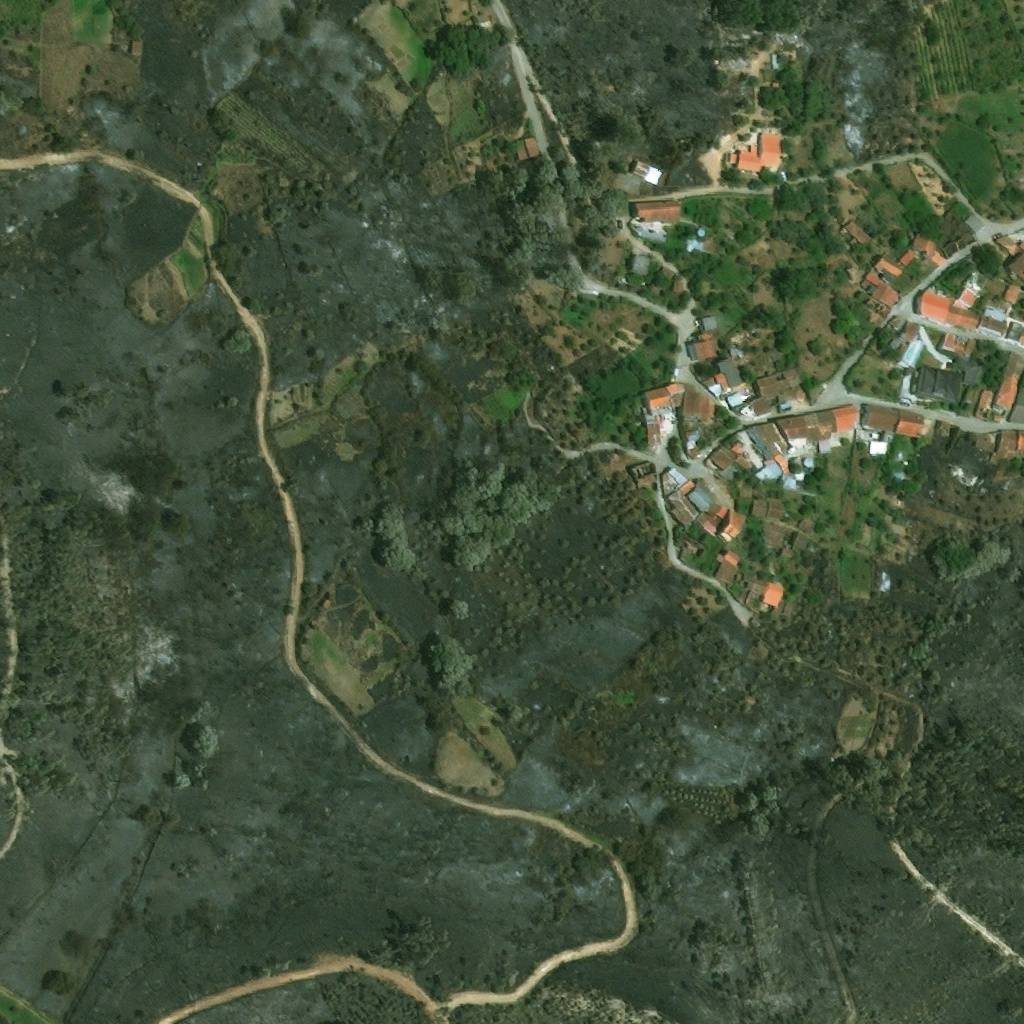0 no-damage: (739, 366, 804, 416), (645, 382, 718, 424), (778, 408, 839, 447), (907, 363, 963, 404), (728, 132, 783, 173), (701, 355, 745, 397), (747, 422, 792, 460), (665, 487, 703, 530), (686, 314, 719, 361), (861, 271, 900, 307), (861, 402, 902, 433), (856, 292, 892, 326), (900, 321, 925, 366), (953, 270, 981, 310), (914, 292, 949, 324), (633, 201, 683, 223), (939, 331, 978, 359), (913, 233, 947, 265), (945, 301, 981, 331), (977, 303, 1008, 337), (648, 409, 676, 445), (718, 508, 747, 542), (994, 374, 1020, 411), (895, 408, 926, 439), (706, 443, 738, 472), (838, 218, 872, 245), (717, 549, 743, 584), (631, 158, 664, 184), (631, 221, 668, 244), (663, 465, 688, 499), (687, 482, 716, 511), (874, 255, 905, 281), (696, 509, 724, 536), (751, 498, 785, 520), (955, 356, 980, 384), (835, 404, 860, 432), (759, 521, 787, 544), (705, 499, 731, 523), (518, 136, 542, 161), (974, 389, 995, 417), (1003, 351, 1023, 380), (684, 428, 702, 460), (755, 461, 785, 480), (964, 213, 987, 236), (995, 235, 1021, 255), (1003, 320, 1023, 346), (1003, 279, 1022, 304), (779, 472, 805, 490), (1007, 250, 1023, 278), (682, 235, 708, 252), (790, 530, 811, 550), (707, 240, 729, 258), (679, 477, 699, 496), (898, 247, 918, 266), (632, 254, 651, 274), (775, 452, 793, 473), (858, 425, 881, 441), (887, 313, 907, 331), (736, 454, 755, 471), (797, 518, 815, 534), (671, 281, 684, 302), (870, 441, 889, 455), (732, 440, 746, 454), (130, 39, 143, 54), (781, 546, 797, 558), (819, 438, 831, 453), (794, 456, 803, 472), (804, 458, 815, 468), (698, 227, 708, 236)
1 minor-damage: (991, 430, 1018, 463), (975, 434, 994, 449)
2 major-damage: (742, 573, 797, 620)
3 destroyed: (678, 536, 709, 567), (631, 460, 660, 487), (952, 465, 982, 489), (946, 444, 965, 459), (951, 429, 965, 443)
4 un-classified: (1017, 431, 1023, 450), (729, 238, 740, 244)
